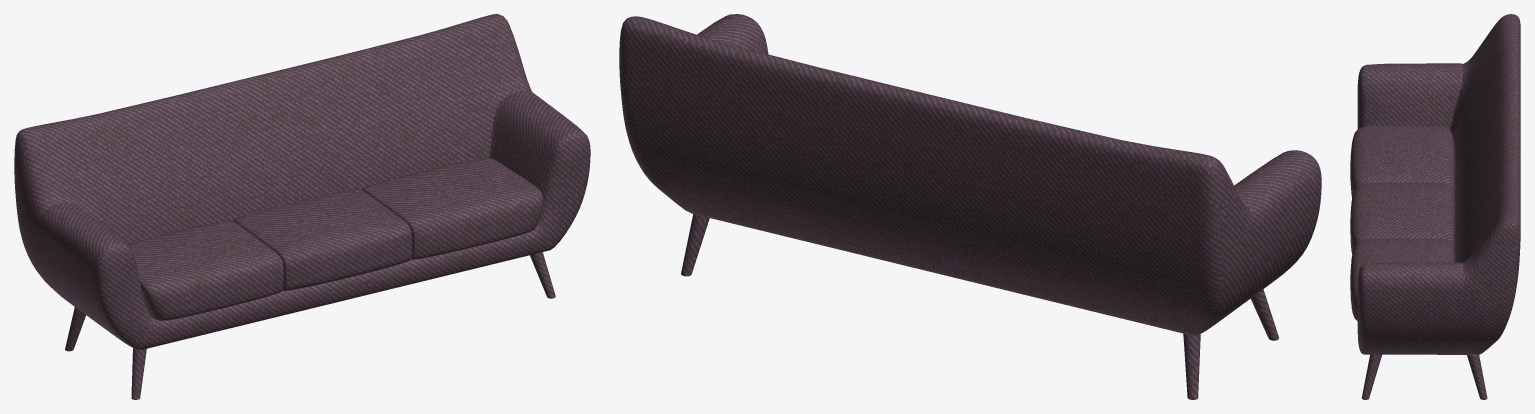
The model's file is purple01.glb.
3 views of the same model, side by side, from view 1: azimuth 30°, elevation 25°; view 2: azimuth 150°, elevation 25°; view 3: azimuth 270°, elevation 25° (orthographic). The views are drawn at different scales.
Parts seen in each view (by area): view 1: sofa_mesh_n3d, pillow_003_mesh_n3d, pillow_001_mesh_n3d, pillow_002_mesh_n3d, base_003_mesh_n3d, base_001_mesh_n3d; view 2: sofa_mesh_n3d, base_004_mesh_n3d, base_002_mesh_n3d, base_003_mesh_n3d; view 3: sofa_mesh_n3d, pillow_002_mesh_n3d, pillow_001_mesh_n3d, pillow_003_mesh_n3d, base_002_mesh_n3d, base_001_mesh_n3d.
Part boxes in pixels (left/top/right/bottom): sofa_mesh_n3d: left=14, top=14, right=590, bottom=349; pillow_003_mesh_n3d: left=361, top=158, right=543, bottom=259; pillow_001_mesh_n3d: left=232, top=189, right=412, bottom=290; pillow_002_mesh_n3d: left=127, top=220, right=283, bottom=320; base_003_mesh_n3d: left=131, top=348, right=146, bottom=399; base_001_mesh_n3d: left=530, top=252, right=555, bottom=298; sofa_mesh_n3d: left=619, top=14, right=1321, bottom=335; base_004_mesh_n3d: left=1183, top=333, right=1200, bottom=399; base_002_mesh_n3d: left=681, top=214, right=709, bottom=276; base_003_mesh_n3d: left=1250, top=289, right=1278, bottom=340; sofa_mesh_n3d: left=1357, top=14, right=1520, bottom=354; pillow_002_mesh_n3d: left=1350, top=125, right=1455, bottom=198; pillow_001_mesh_n3d: left=1350, top=183, right=1455, bottom=253; pillow_003_mesh_n3d: left=1350, top=239, right=1455, bottom=320; base_002_mesh_n3d: left=1467, top=354, right=1487, bottom=399; base_001_mesh_n3d: left=1362, top=354, right=1381, bottom=399.
Bounding box in the file's own units: 1.9 × 0.7874 × 0.635.
Materials: 1 (1 with a texture image).
